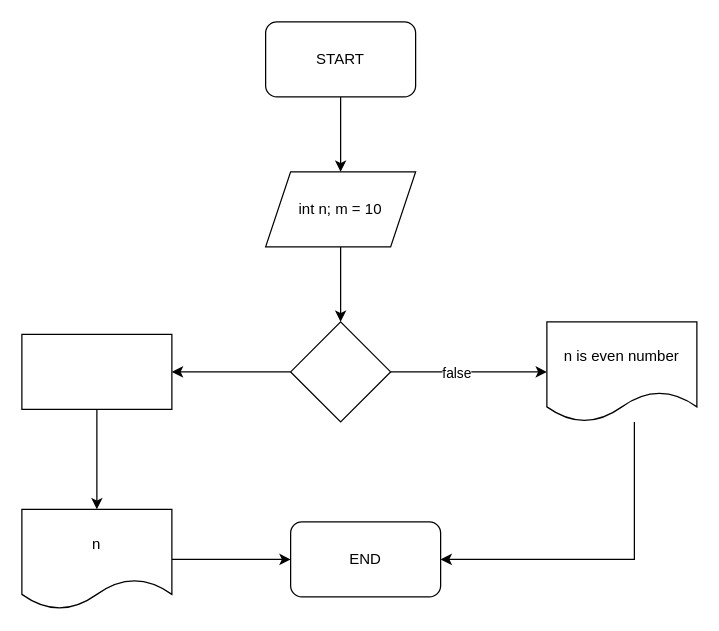
Some shapes in this 719 by 631 pixel diagram are drawn without their labels. The centre of each missing label's shape, as x and y in pixels:
"if n % 2 == 1" belongs at pixel 340 371.
"n += m" belongs at pixel 96 371.
